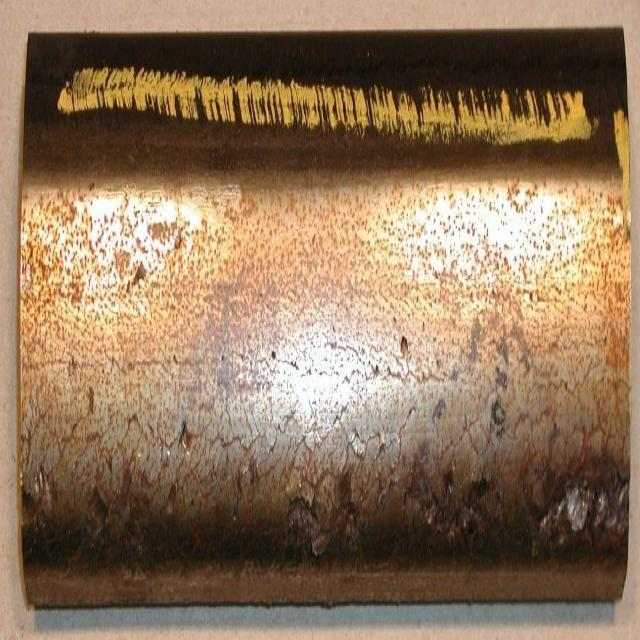broken_rail_medium: (124, 261, 148, 294), (398, 332, 410, 367)
